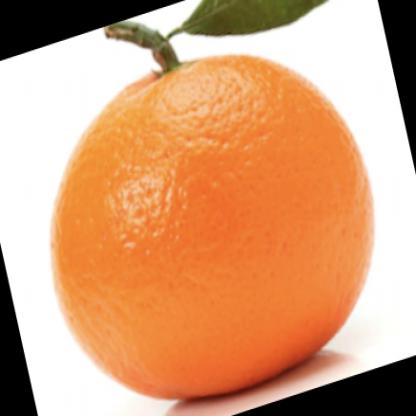orange: (45, 55, 376, 399)
